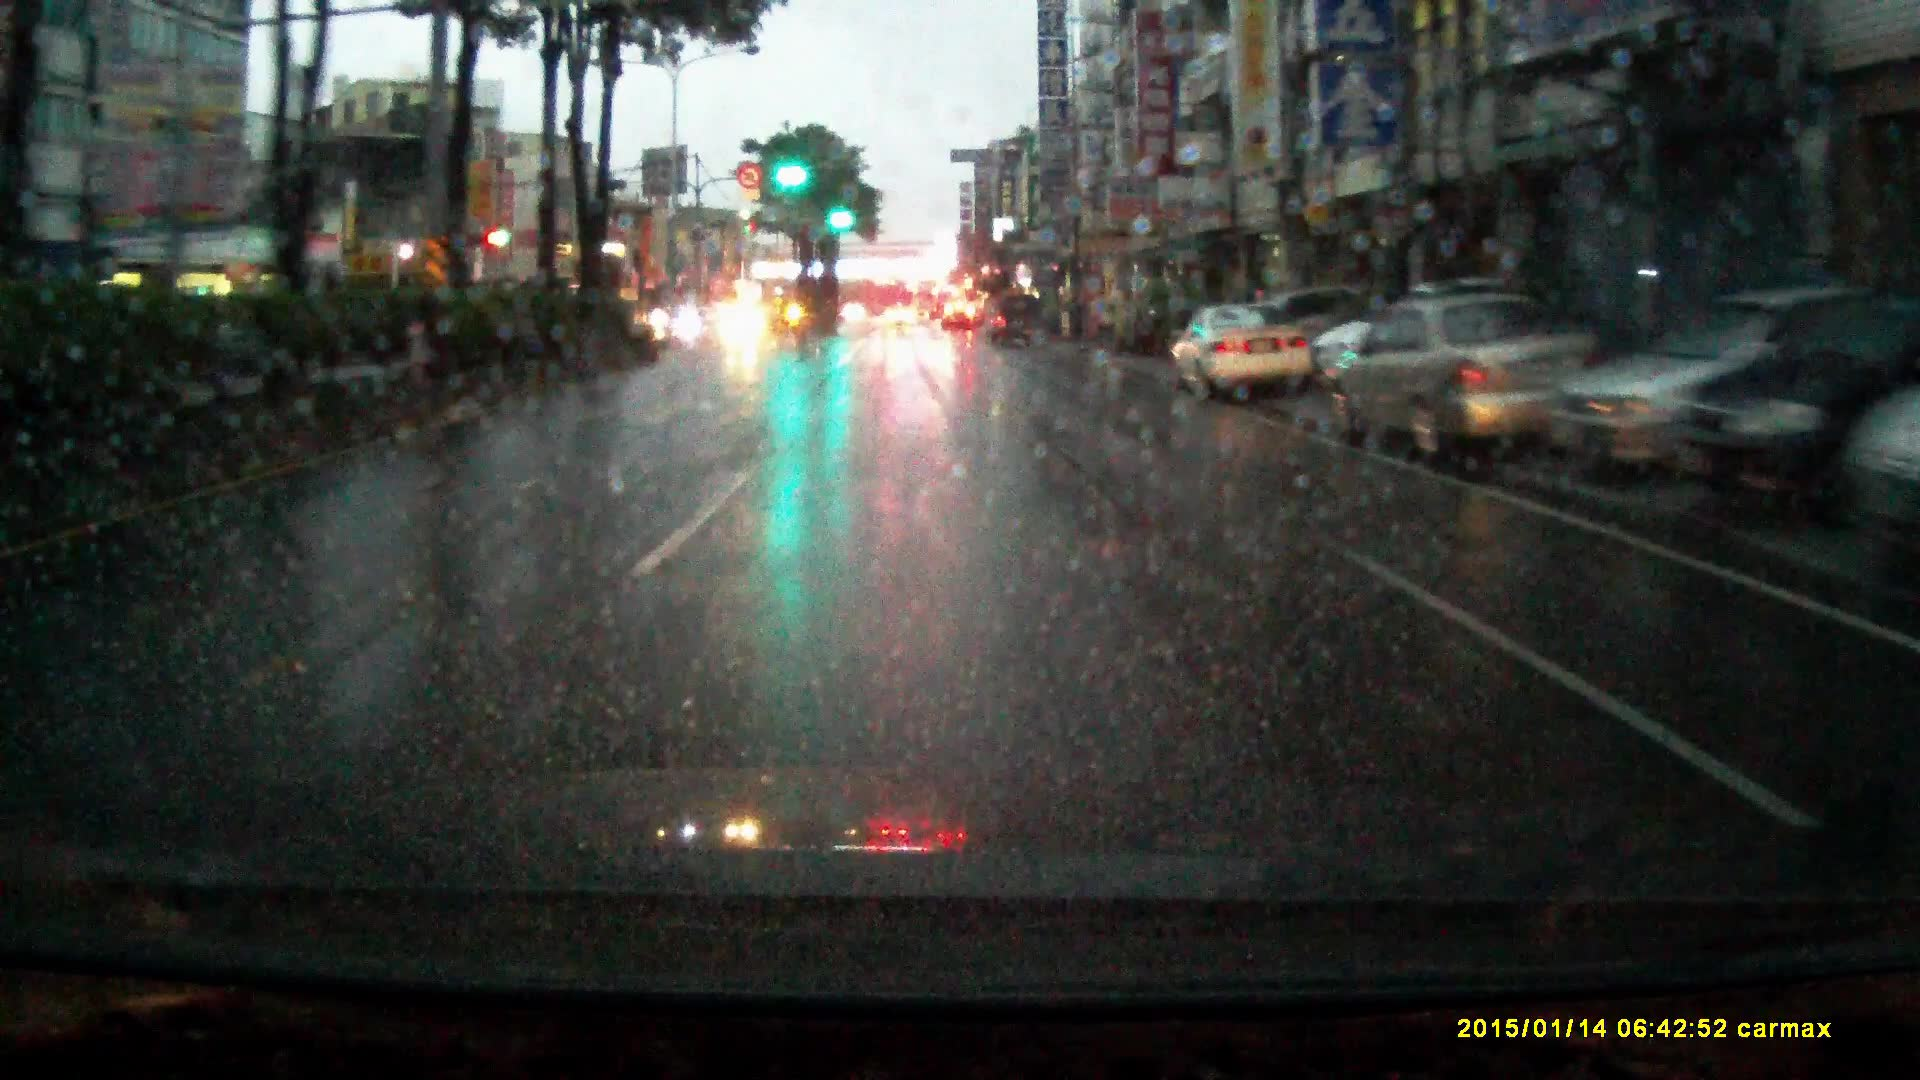vehicle: (1549, 287, 1857, 485), (1325, 295, 1610, 456), (1170, 299, 1312, 409), (715, 301, 771, 351), (992, 298, 1040, 345), (914, 281, 942, 323), (943, 299, 976, 328), (886, 305, 918, 326)
